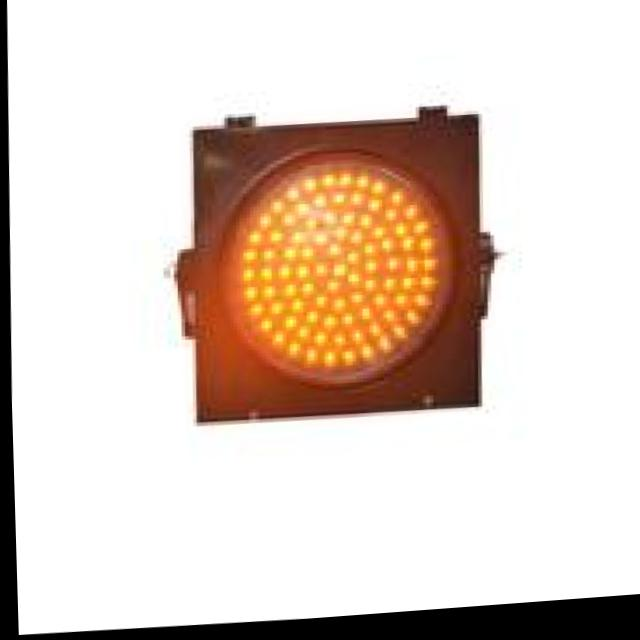yellow_light: (162, 64, 501, 463)
